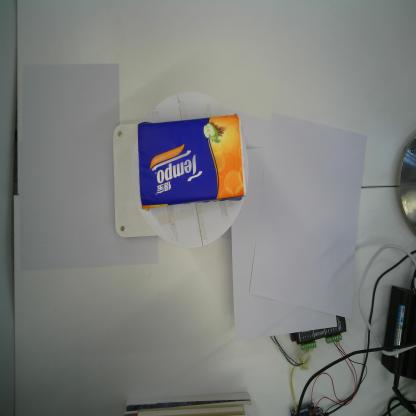Tissue: (136, 111, 248, 213)
